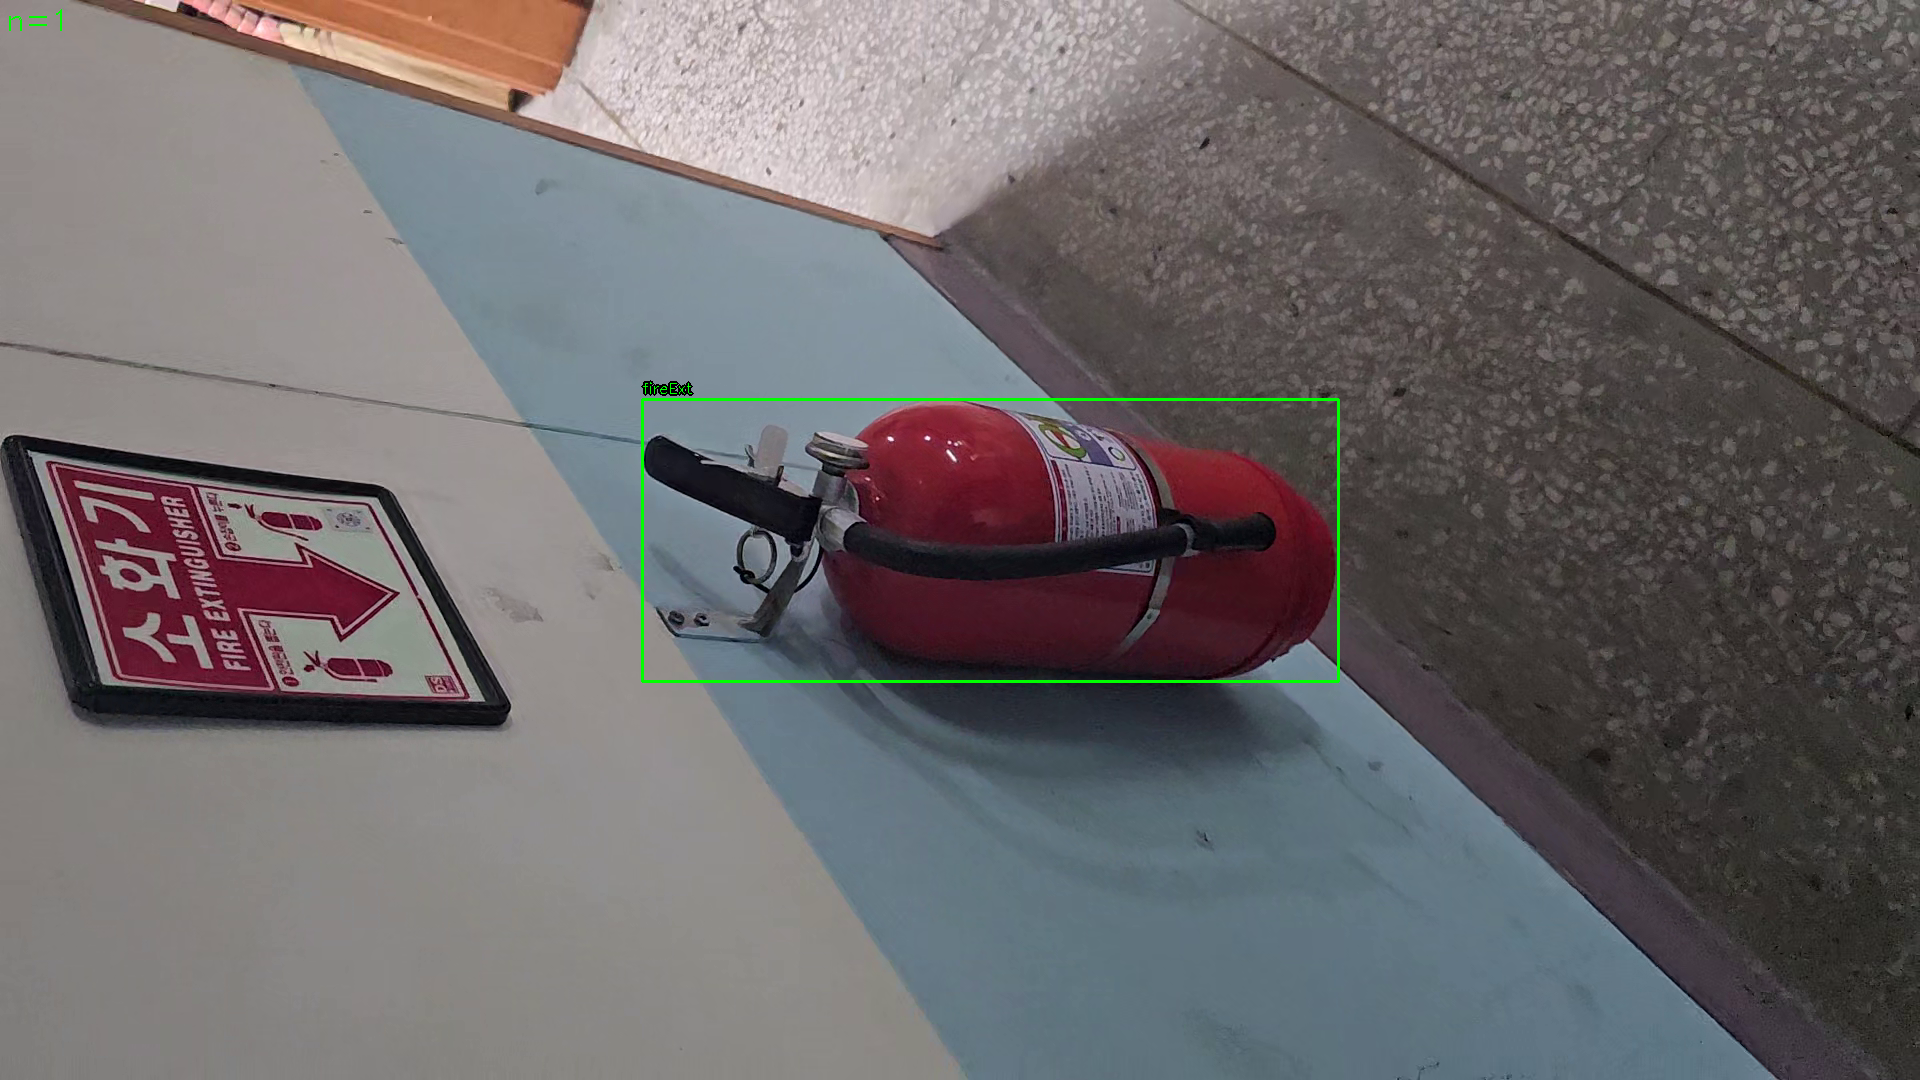lane: (642, 400, 1338, 682)
